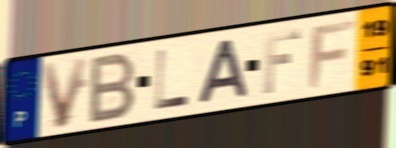A: (194, 37, 251, 106)
B: (86, 49, 138, 126)
F: (306, 17, 358, 91), (261, 27, 303, 97)
L: (153, 47, 192, 112)
V: (38, 54, 91, 132)
